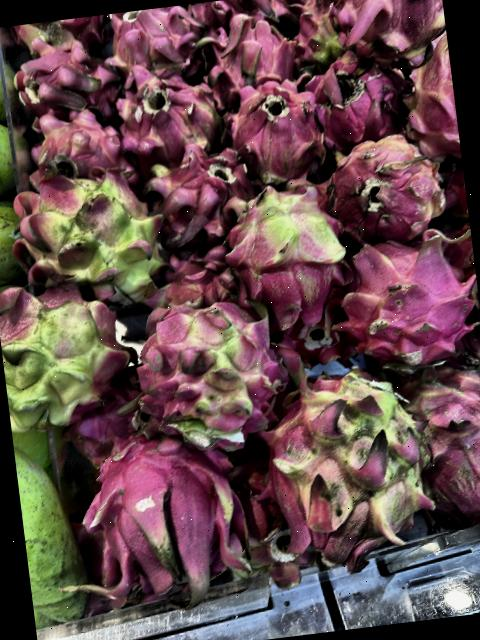buah-naga-belum-matang: (256, 358, 446, 576), (0, 150, 172, 322), (122, 282, 288, 458), (0, 267, 144, 442), (217, 184, 351, 330), (318, 126, 449, 239), (393, 358, 480, 527), (105, 64, 224, 165), (19, 104, 137, 197), (324, 0, 450, 76), (410, 40, 461, 159)
buah-naga-matang: (76, 416, 261, 614), (336, 224, 480, 369), (218, 70, 328, 190), (138, 140, 248, 248), (184, 5, 304, 99), (302, 50, 412, 148), (8, 34, 120, 124), (103, 3, 209, 85)
